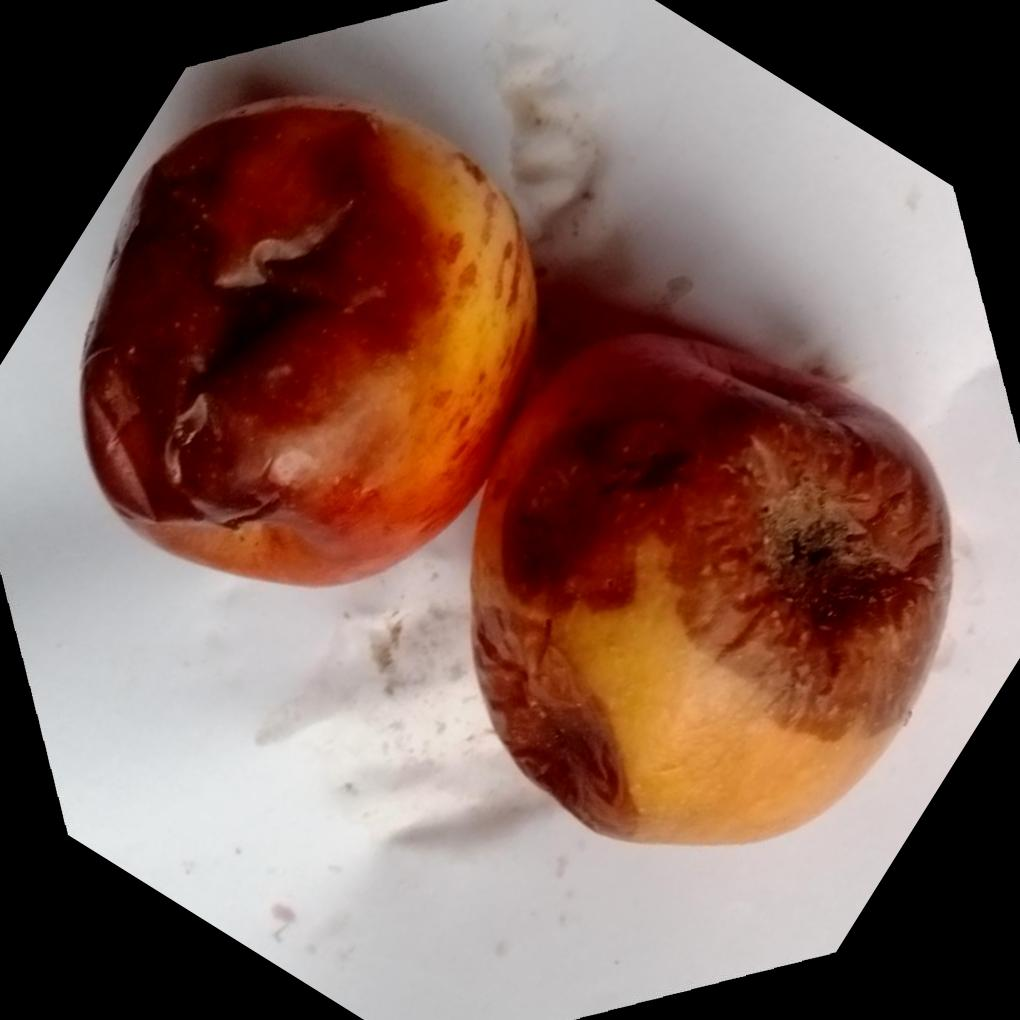FreshOrange: (80, 94, 955, 848)
